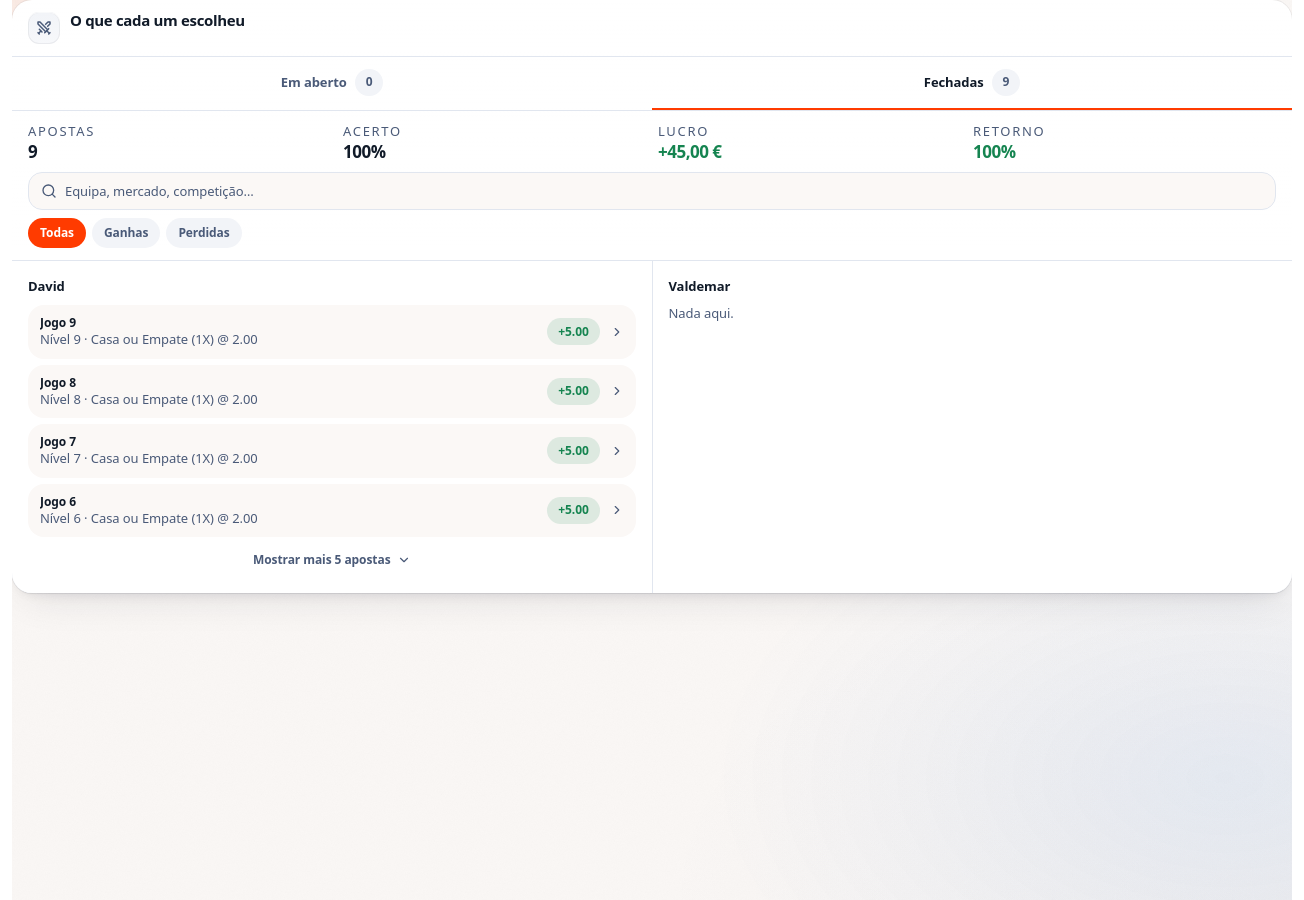
Test: ChallengeBets › abre o resto a um toque, e volta a fechar
Step 1. Click the button "Mostrar mais 5 apostas" → (332, 560), box [28,543,636,577]
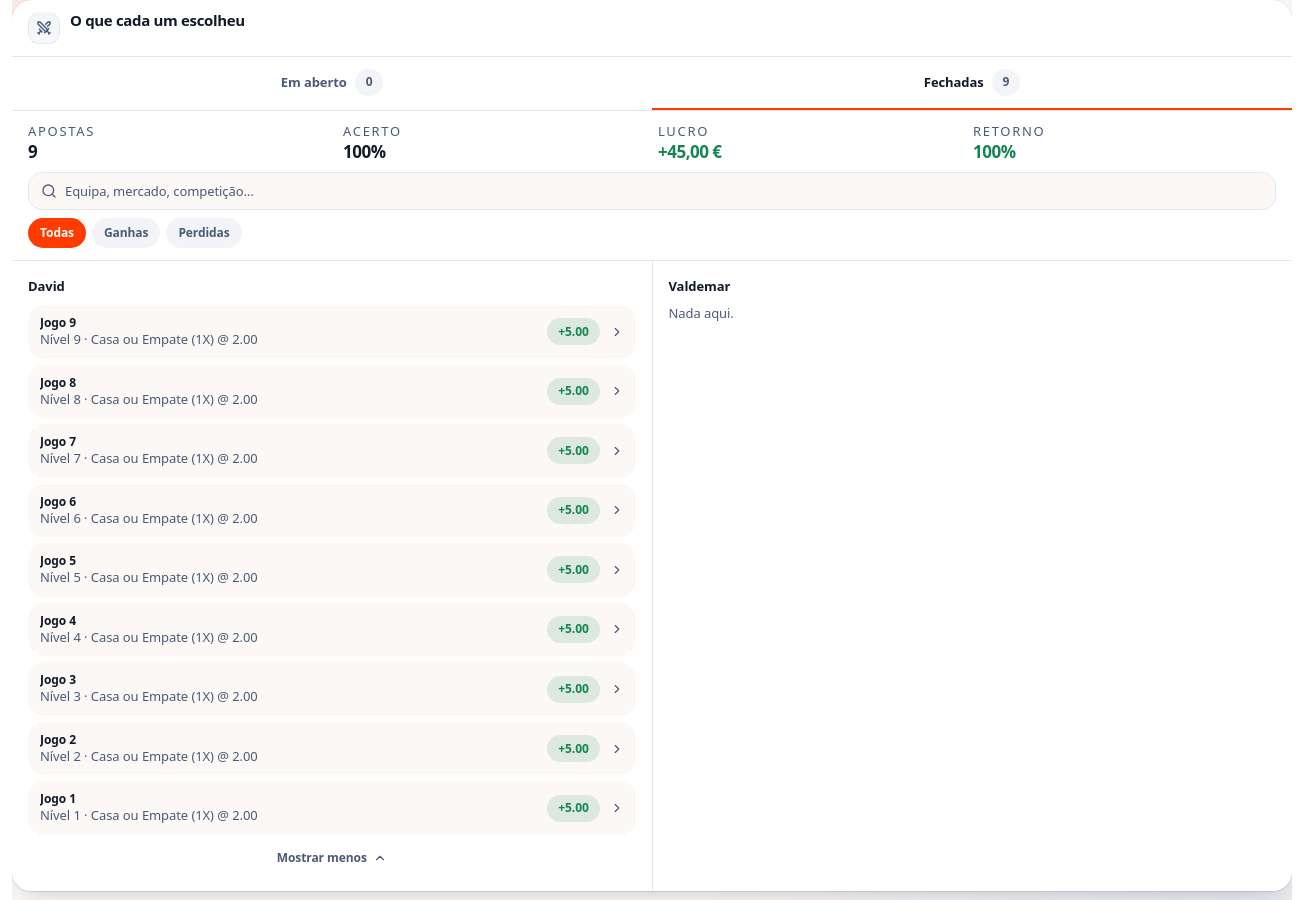
Now the number of buttons named "Ver e corrigir a aposta" is 9
Step 2. Click the button "Mostrar menos" → (332, 858), box [28,841,636,875]
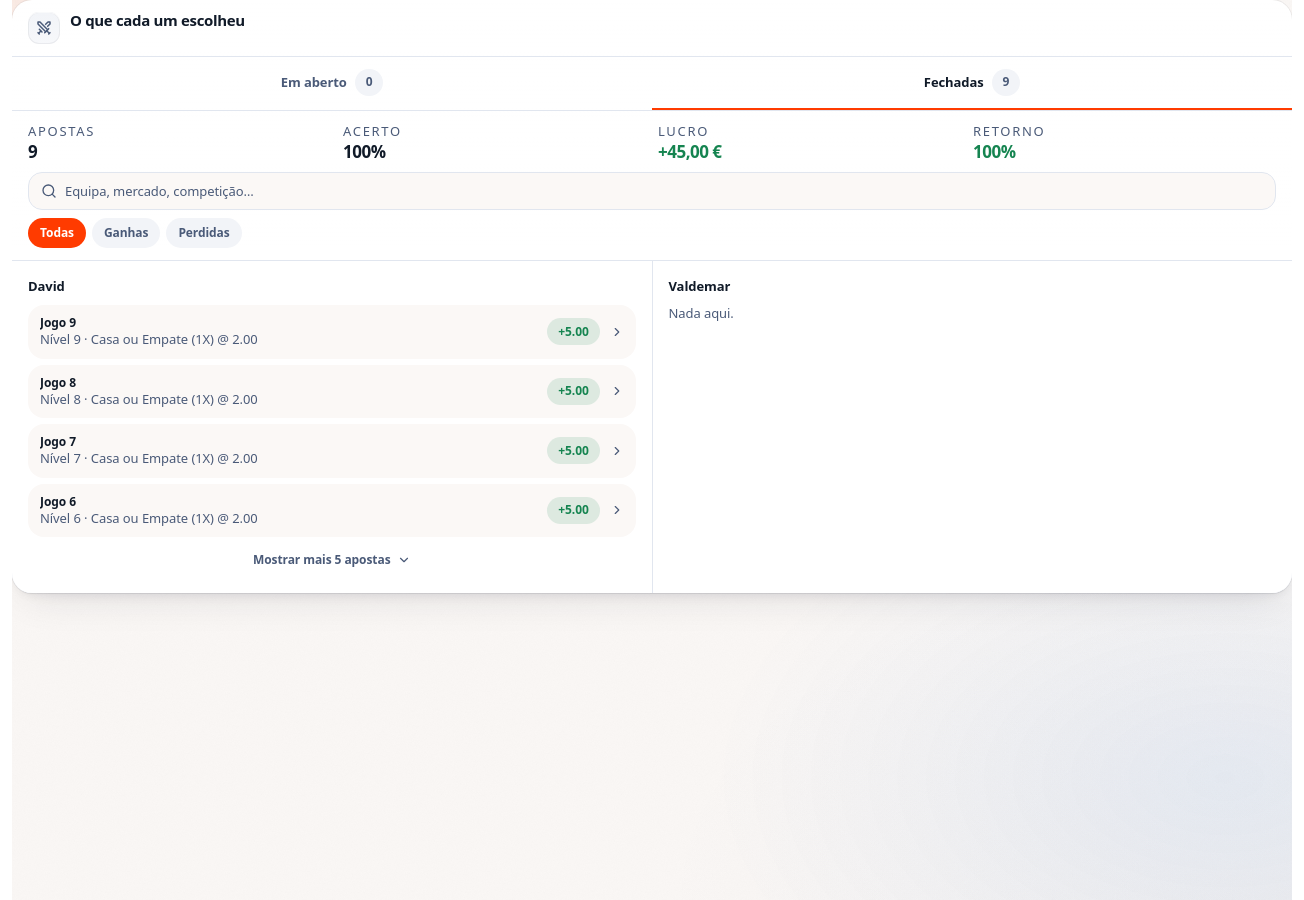
Now the number of buttons named "Ver e corrigir a aposta" is 4, box [28,305,636,358]; [28,364,636,418]; [28,424,636,478]; [28,484,636,537]
